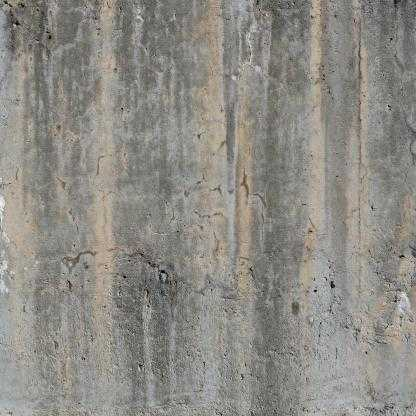crack: (357, 15, 363, 242), (146, 254, 171, 283)
